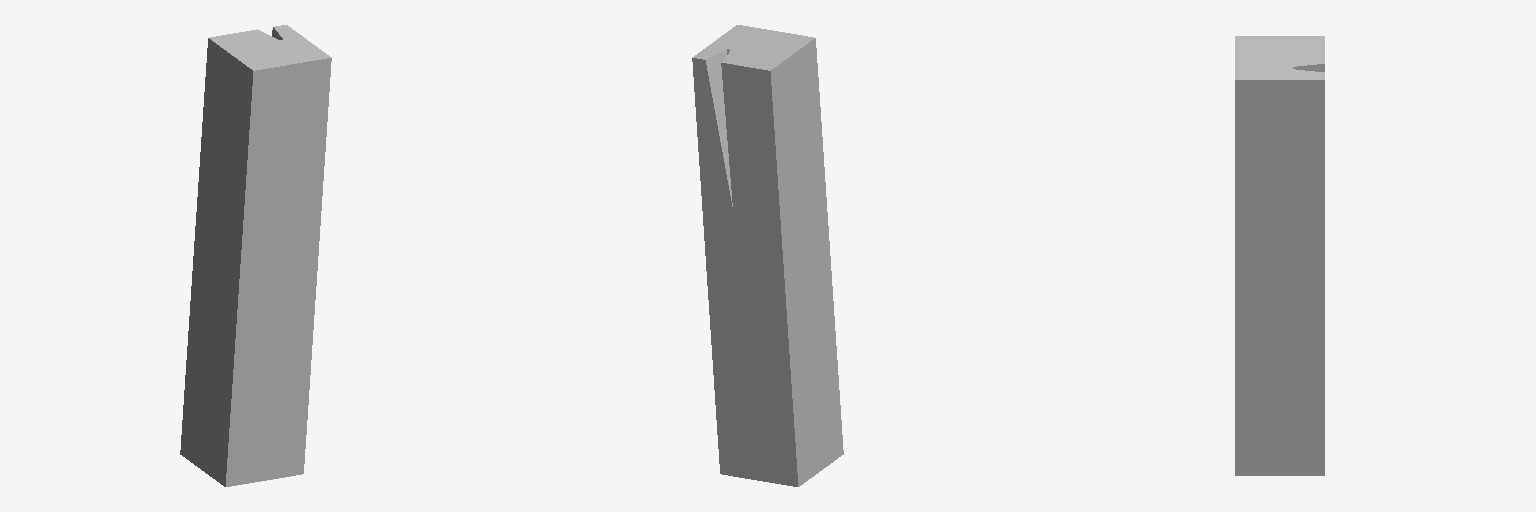
The model's file is Prop_Fence_Post_4.obj.
3 views of the same model, side by side, from view 1: azimuth 30°, elevation 25°; view 2: azimuth 150°, elevation 25°; view 3: azimuth 270°, elevation 25° (orthographic).
Parts seen in each view (by area): view 1: object1; view 2: object1; view 3: object1.
Boxes of the visible parts, <box> form: object1: <box>180,25,331,486</box>; object1: <box>692,25,843,486</box>; object1: <box>1235,36,1324,475</box>.
Size of the model in its own units: 0.2031 by 0.7588 by 0.15.